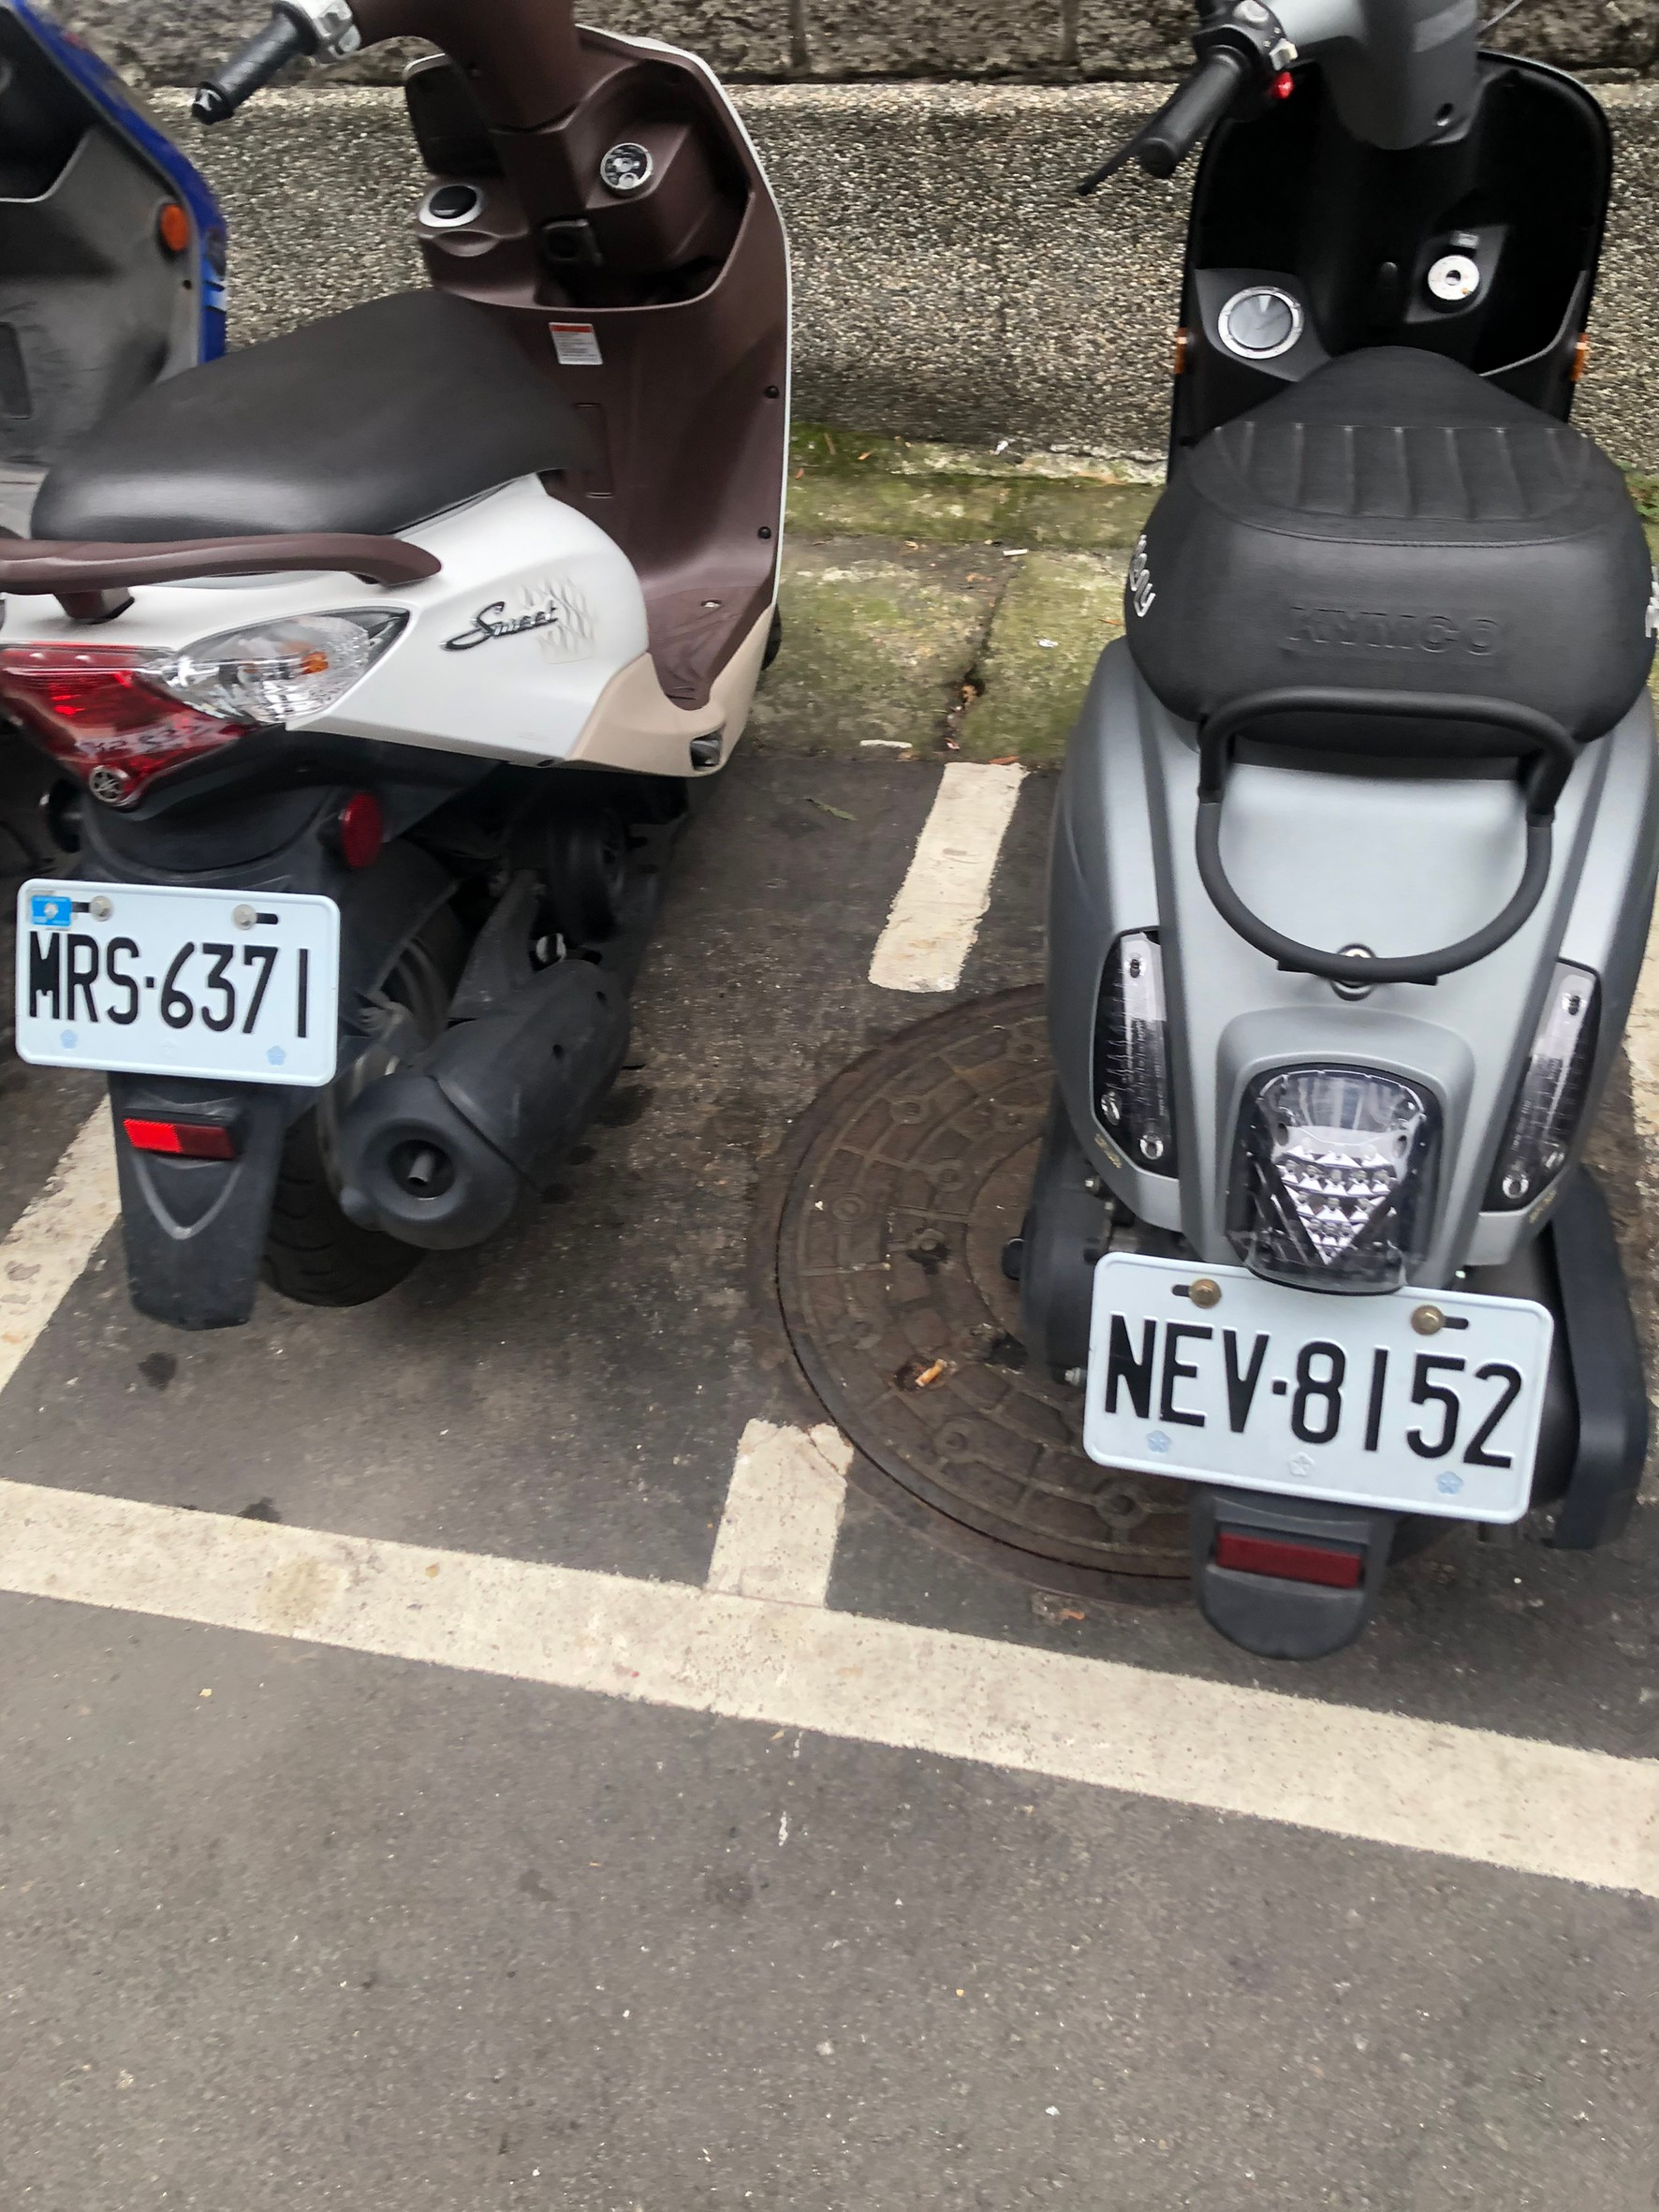LP: (1089, 1251, 1536, 1527), (14, 869, 347, 1096)
